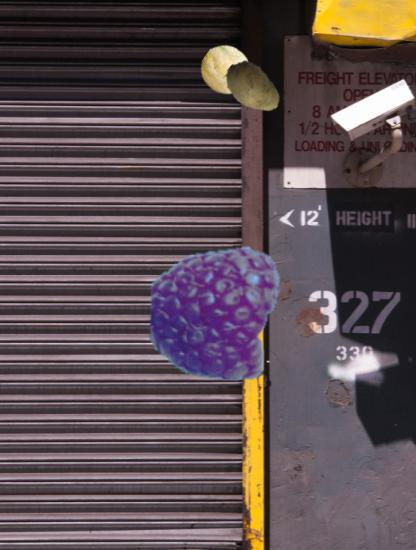Cantaloupe: (201, 45, 252, 96)
Potato: (222, 57, 284, 119)
Raspberry: (146, 244, 284, 382)
